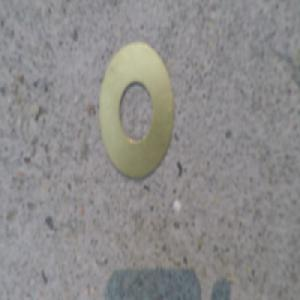Washer: (97, 44, 175, 182)
